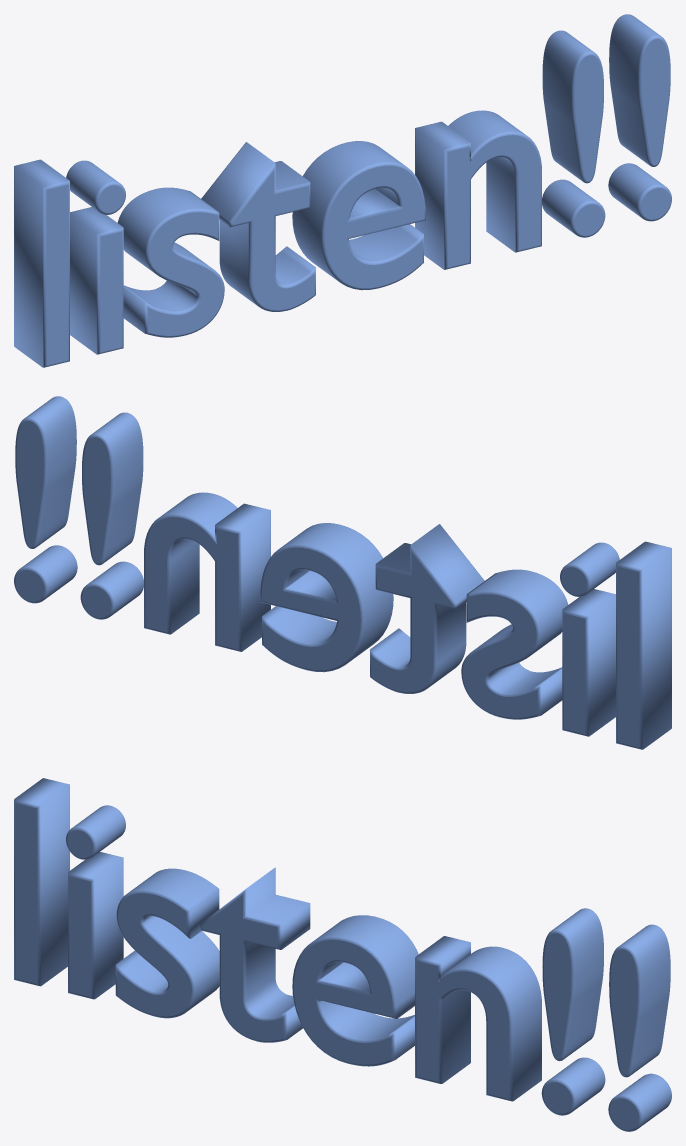
File: touch2.glb
The picture shows the model from 3 angles, top to bottom: view 1: azimuth 30°, elevation 25°; view 2: azimuth 150°, elevation 25°; view 3: azimuth 330°, elevation 25°; orthographic projection.
Parts seen in each view (by area): view 1: Text; view 2: Text; view 3: Text.
Boxes of the visible parts, <box> form: Text: <box>14,14,671,367</box>; Text: <box>14,396,671,749</box>; Text: <box>14,778,671,1131</box>.
Size of the model in its own units: 2.56 by 0.7201 by 0.22.
